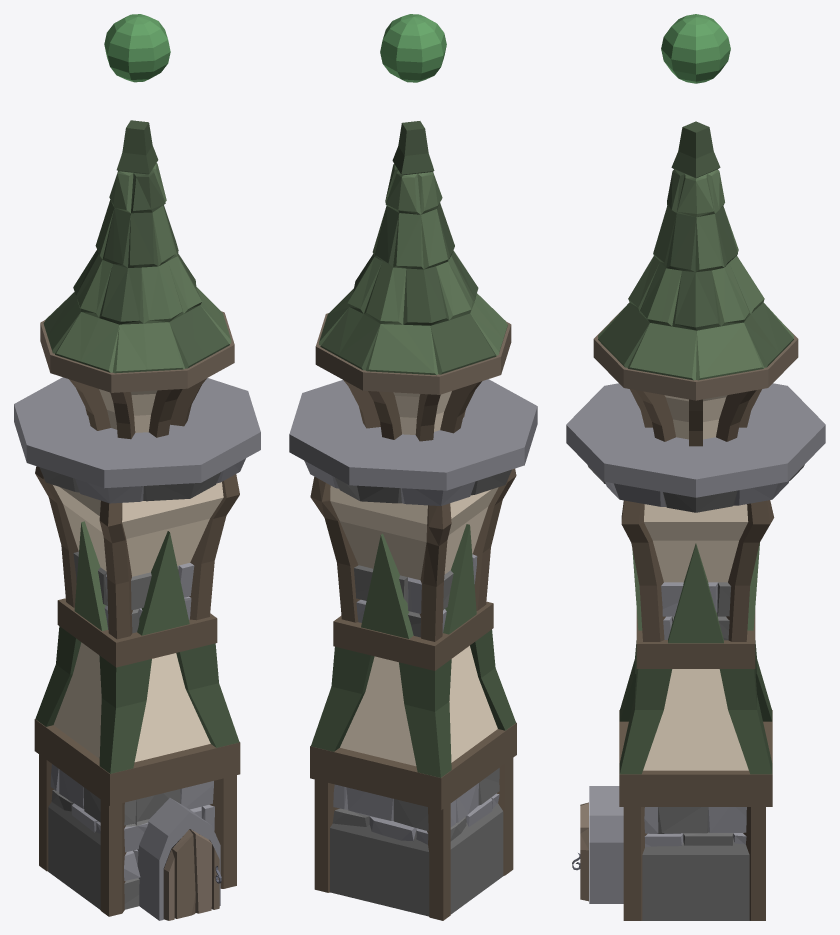
Rendered from _Wizard_tower_LVL_2.fbx.
3 renders of one model, left to right at view 1: azimuth 30°, elevation 25°; view 2: azimuth 150°, elevation 25°; view 3: azimuth 270°, elevation 25°, orthographic.
Parts seen in each view (by area): view 1: Wizard_tower_LVL_2, Wizard_tower_LVL_2.001; view 2: Wizard_tower_LVL_2, Wizard_tower_LVL_2.001; view 3: Wizard_tower_LVL_2, Wizard_tower_LVL_2.001.
Boxes of the visible parts, <box> form: Wizard_tower_LVL_2: <box>14,120,260,920</box>; Wizard_tower_LVL_2.001: <box>104,14,170,82</box>; Wizard_tower_LVL_2: <box>289,121,537,920</box>; Wizard_tower_LVL_2.001: <box>380,14,446,82</box>; Wizard_tower_LVL_2: <box>566,121,825,920</box>; Wizard_tower_LVL_2.001: <box>661,14,730,83</box>.
Size of the model in its own units: 552 by 2046 by 552.
